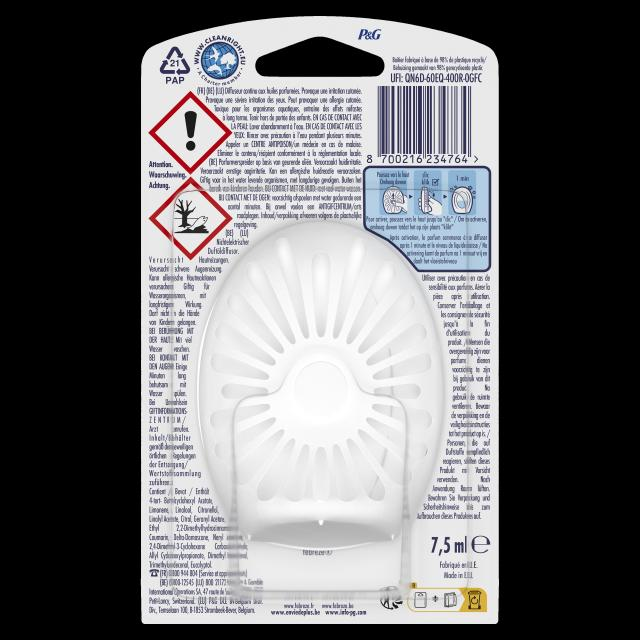GHS_Symbol_ENVIRONMENT: (150, 178, 231, 260)
GHS_Symbol_EXCLAMATION_MARK: (150, 89, 232, 175)
